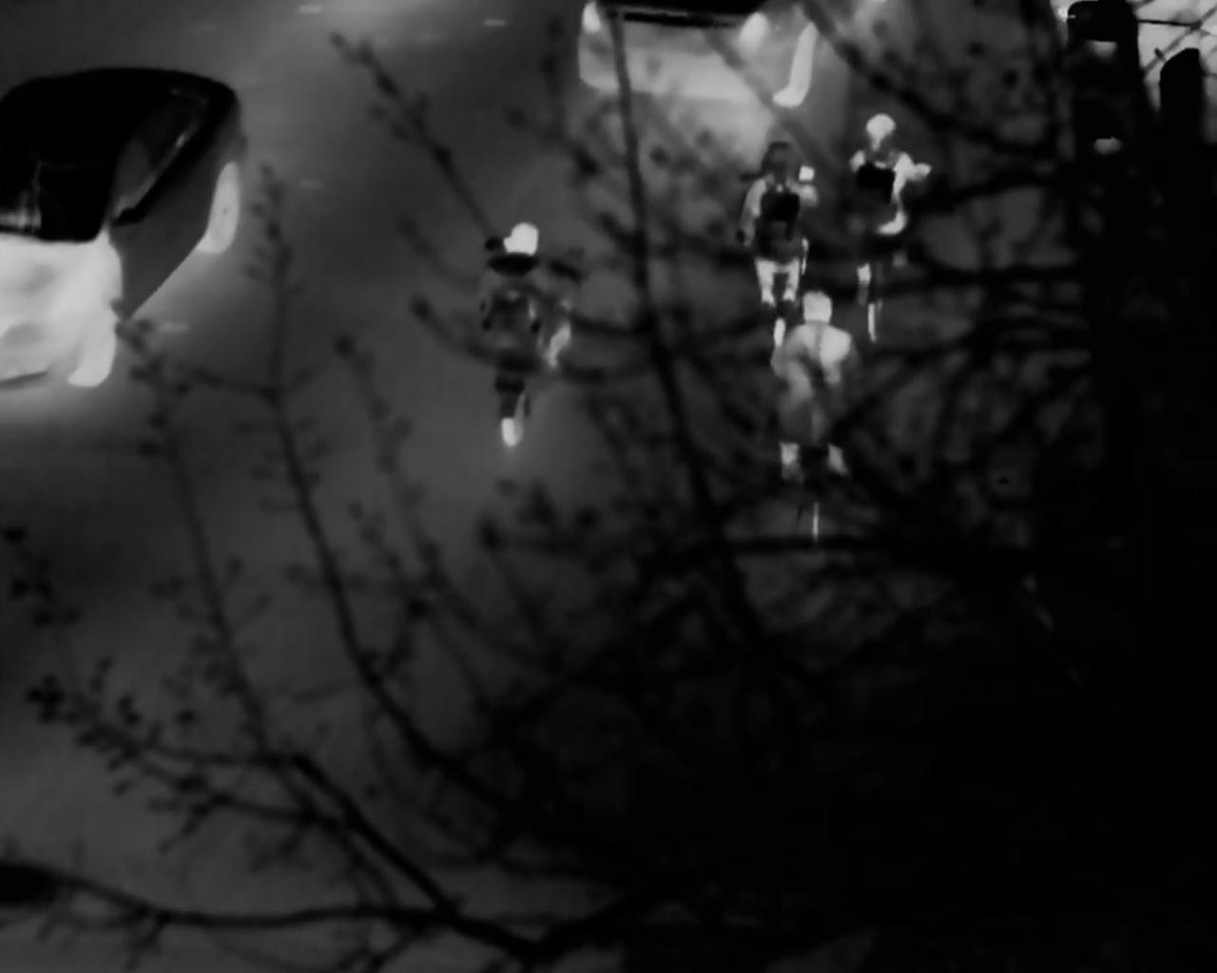person: (760, 295, 866, 484), (486, 219, 570, 398), (748, 146, 819, 321), (848, 110, 914, 282)
